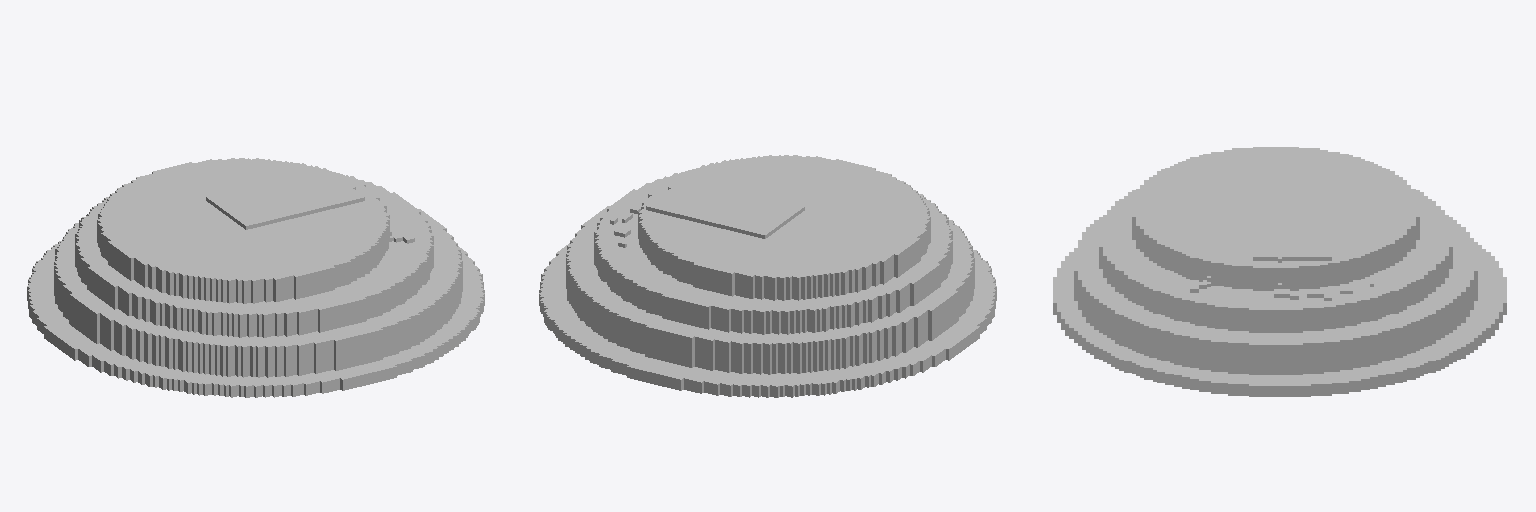
File: sasso grande.obj
3 views of the same model, side by side, from view 1: azimuth 30°, elevation 25°; view 2: azimuth 150°, elevation 25°; view 3: azimuth 270°, elevation 25° (orthographic).
Size of the model in its own units: 109 by 24 by 109.